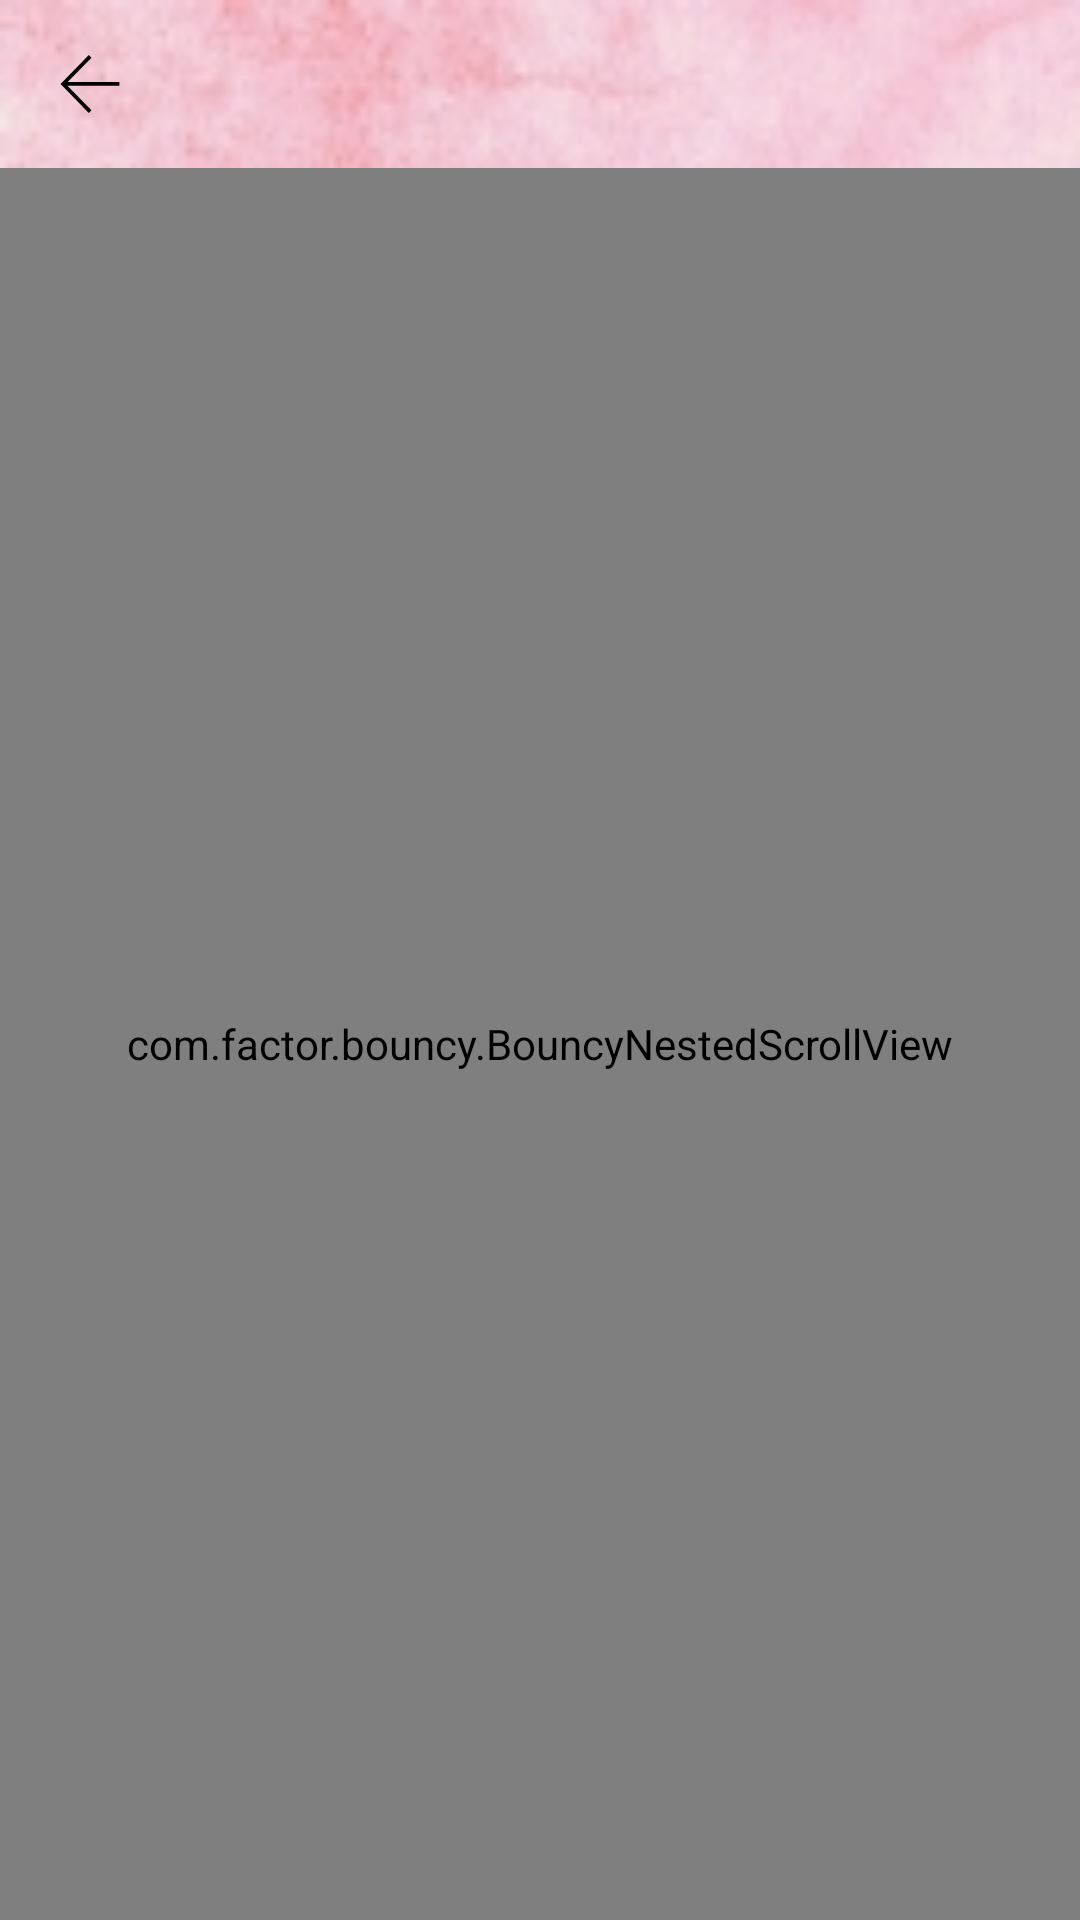

Icons on this 1080w x 1920h Android screen, each with the point to tap as (x=x, y=y):
back: (x=88, y=79)
